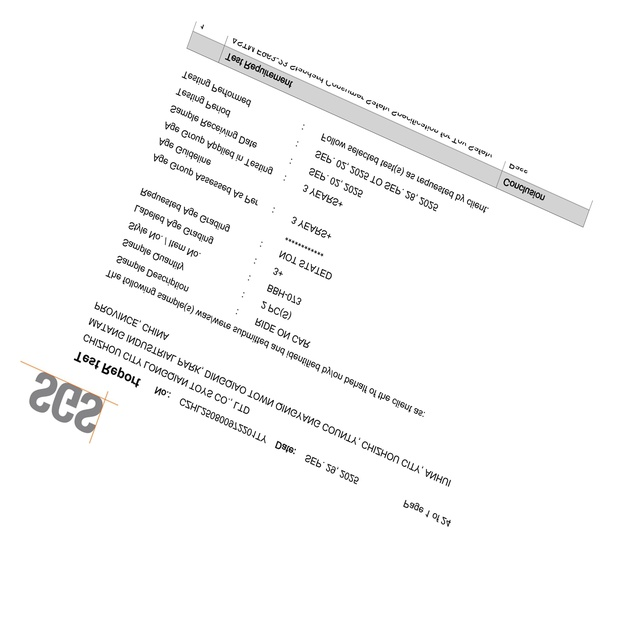sgs: (30, 372, 103, 434)
